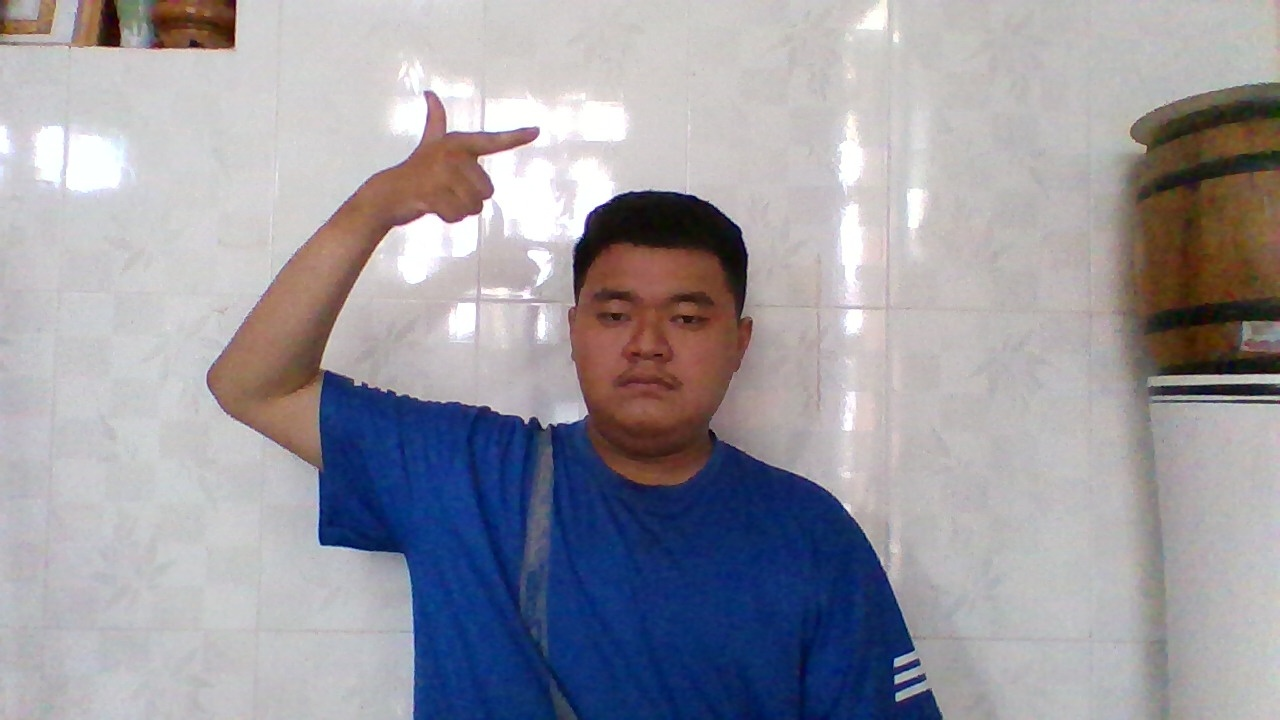G: (362, 78, 548, 234)
